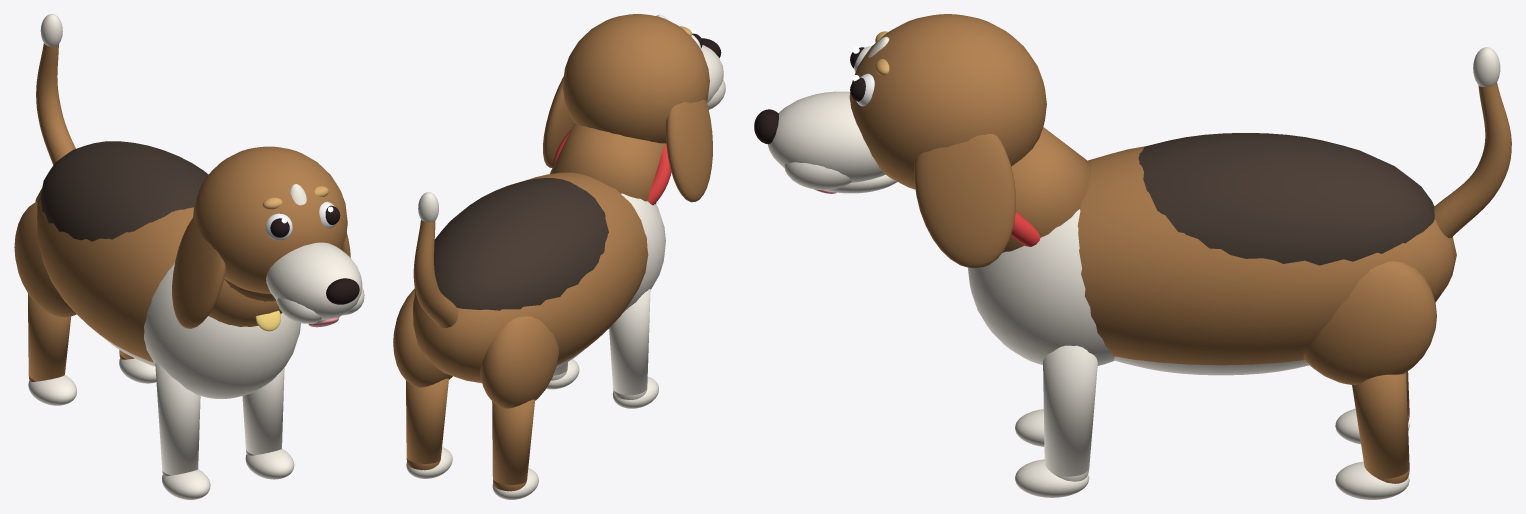
File: perro.glb
3 renders of one model, left to right at view 1: azimuth 30°, elevation 25°; view 2: azimuth 150°, elevation 25°; view 3: azimuth 270°, elevation 25°, orthographic. The views are drawn at different scales.
Visible parts, largest first — view 1: Cabeza, Cuerpo, Manto, Pecho, Hocico, OrejaIzq, PataDelIzq, MusloTraIzq, PataTraIzq, PataDelDer, Cola, Cuello (+8 smaller); view 2: Manto, Cuerpo, Cabeza, MusloTraIzq, Cuello, OrejaIzq, PataDelIzq, PataTraIzq, PataTraDer, Cola, MusloTraDer, Pecho (+8 smaller); view 3: Cuerpo, Manto, Cabeza, Pecho, MusloTraDer, OrejaDer, Hocico, PataDelDer, Cuello, PataTraDer, Cola, Barriga (+5 smaller).
Part boxes in pixels (<box>): Cabeza: <box>193,146,347,293</box>; Cuerpo: <box>35,188,193,362</box>; Manto: <box>40,141,208,241</box>; Pecho: <box>144,263,300,398</box>; Hocico: <box>266,242,362,319</box>; OrejaIzq: <box>172,217,225,328</box>; PataDelIzq: <box>155,362,200,475</box>; MusloTraIzq: <box>14,201,76,317</box>; PataTraIzq: <box>28,293,71,381</box>; PataDelDer: <box>242,367,284,454</box>; Cola: <box>36,43,75,164</box>; Cuello: <box>208,279,282,326</box>; Manto: <box>434,178,608,310</box>; Cuerpo: <box>413,172,648,382</box>; Cabeza: <box>562,14,709,143</box>; MusloTraIzq: <box>480,316,558,408</box>; Cuello: <box>550,123,665,204</box>; OrejaIzq: <box>665,99,712,202</box>; PataDelIzq: <box>609,289,650,395</box>; PataTraIzq: <box>492,399,535,484</box>; PataTraDer: <box>406,378,448,463</box>; Cola: <box>413,220,458,328</box>; MusloTraDer: <box>393,288,452,387</box>; Pecho: <box>621,193,665,312</box>; Cuerpo: <box>1077,146,1456,365</box>; Manto: <box>1138,133,1434,265</box>; Cabeza: <box>849,14,1046,189</box>; Pecho: <box>968,209,1114,365</box>; MusloTraDer: <box>1303,261,1436,385</box>; OrejaDer: <box>914,134,1015,268</box>; Hocico: <box>767,91,885,182</box>; PataDelDer: <box>1043,345,1097,476</box>; Cuello: <box>1002,127,1091,252</box>; PataTraDer: <box>1352,372,1409,478</box>; Cola: <box>1434,82,1511,237</box>; Barriga: <box>1114,356,1309,375</box>.
Size of the model in its own units: 0.96 by 1.98 by 3.05.
